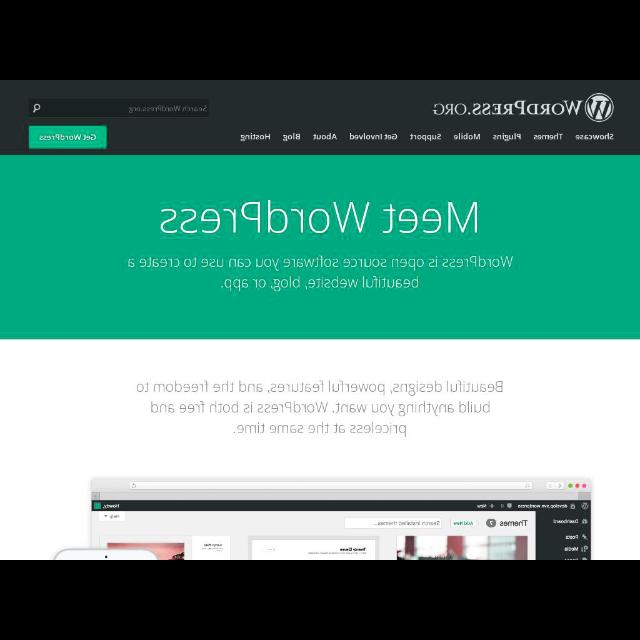icon: (32, 105, 42, 114)
image: (91, 479, 591, 559), (584, 93, 614, 121)
input: (32, 99, 208, 115)
text: (135, 379, 503, 435), (126, 253, 514, 290), (161, 201, 477, 235), (432, 100, 582, 116), (126, 104, 208, 115), (40, 134, 99, 142), (349, 131, 396, 141), (240, 134, 272, 142), (411, 133, 442, 141), (313, 132, 337, 142), (576, 134, 614, 140), (494, 133, 522, 141), (454, 132, 481, 140), (534, 134, 564, 140), (282, 134, 302, 142)
textbutton: (29, 125, 106, 148)
